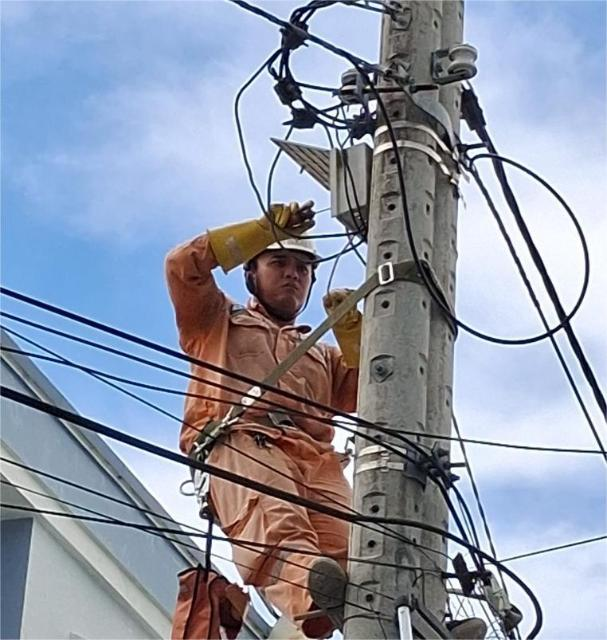gloves: (185, 183, 309, 273), (324, 279, 370, 368)
helmet: (259, 197, 329, 270)
shoes: (273, 546, 378, 640), (434, 601, 507, 640)
